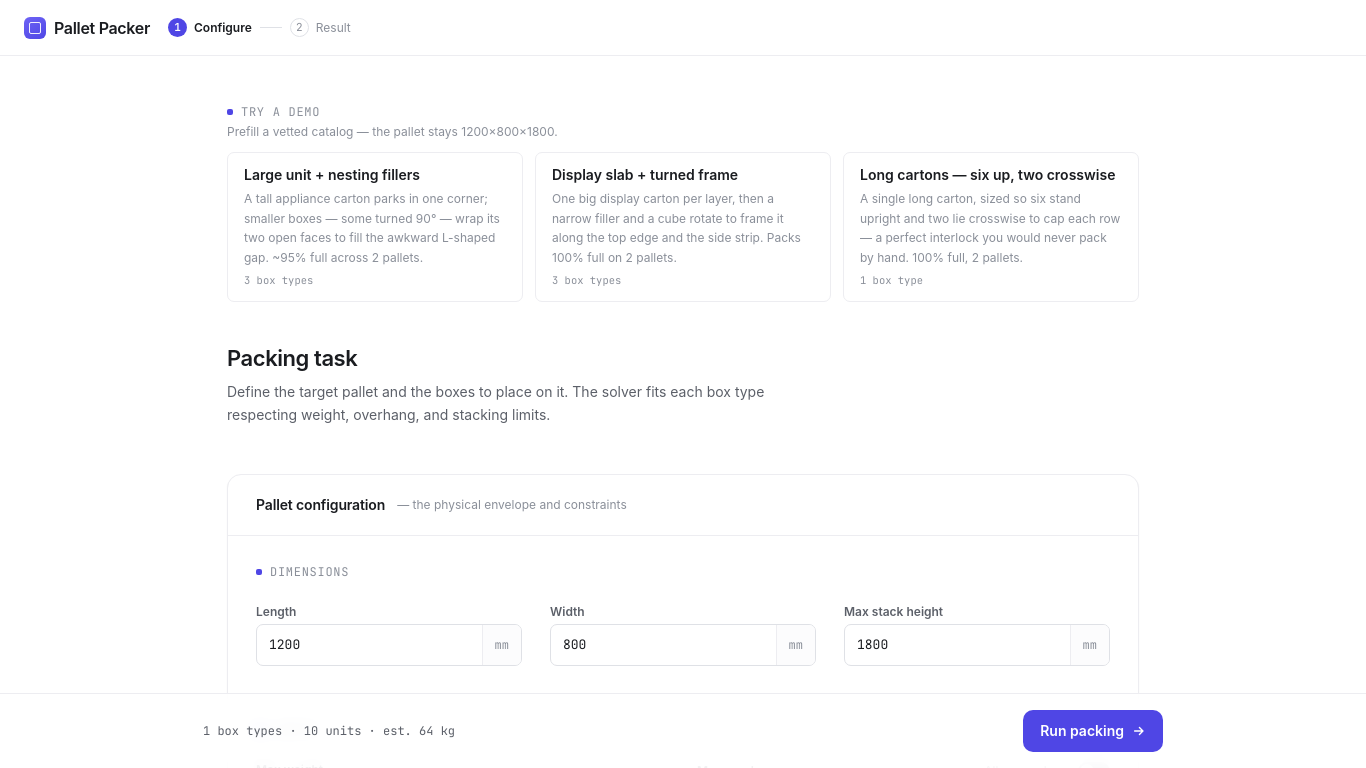
it: ConfigForm — Run gate (D-06) › a cleared required pallet field blocks Run and navigates nowhere (D-02/D-04)
# Clear the pallet Length input (a required mm field).
Clear the number field labelled "Length" at (369, 645), box left=257, top=625, right=482, bottom=665
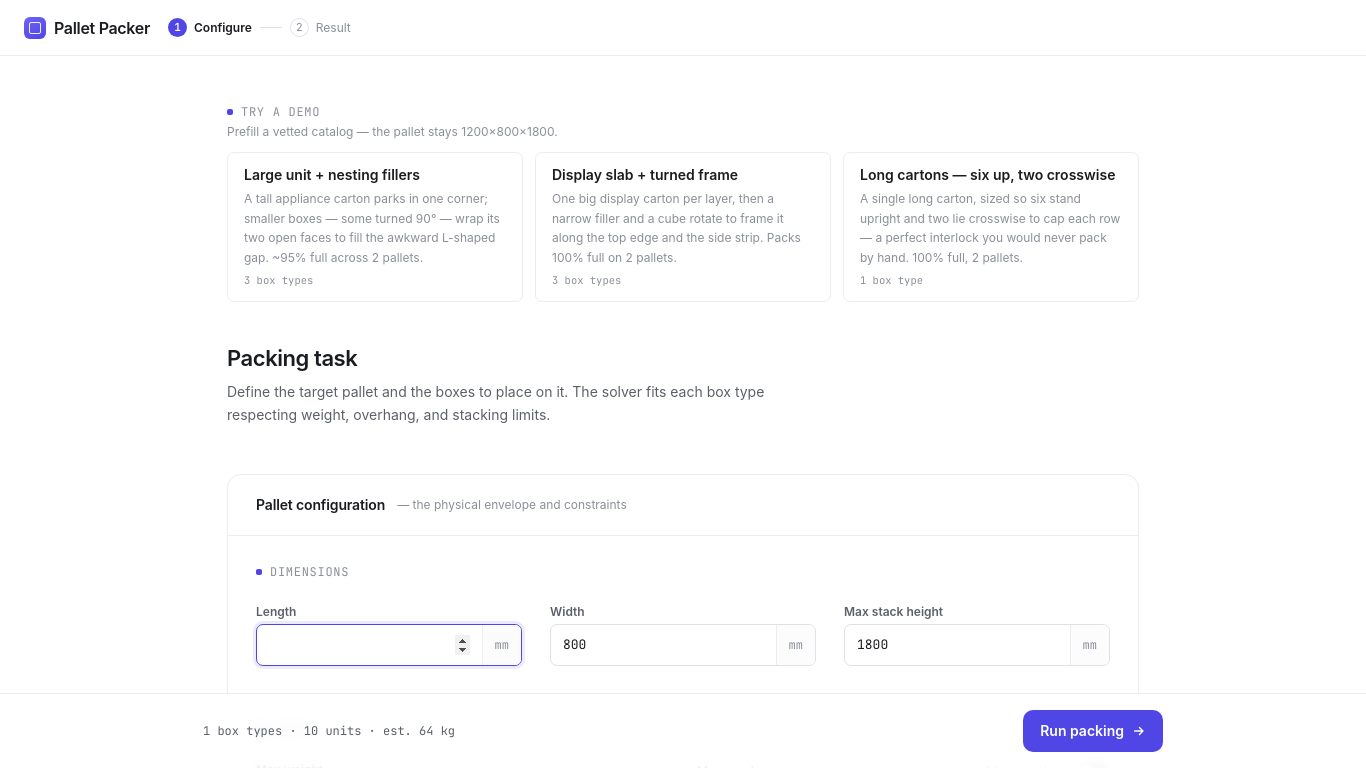
Click the button "Run packing" at (1093, 731), box left=1023, top=710, right=1163, bottom=752
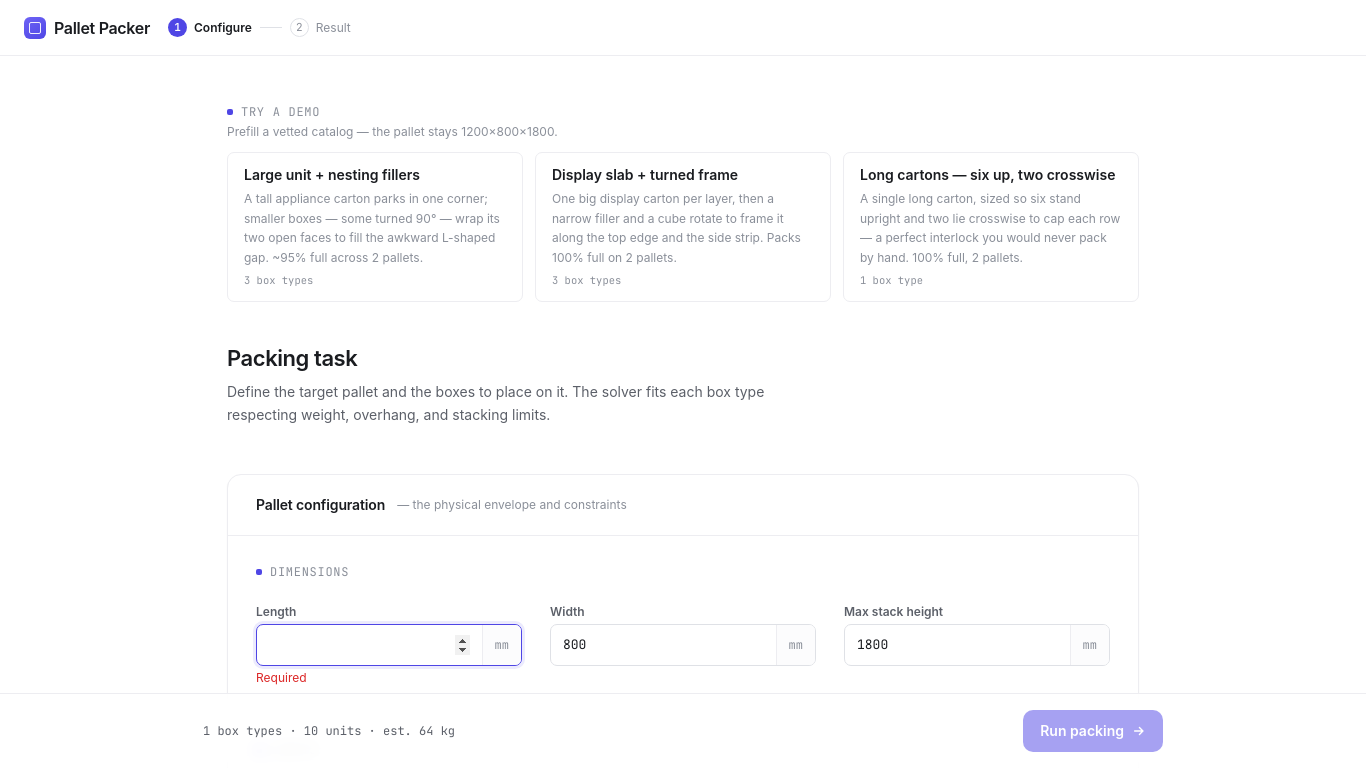
Check: the text "Required" is shown, box left=256, top=670, right=307, bottom=685
